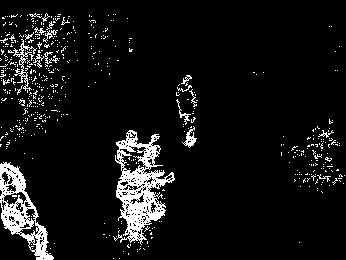person: (2, 161, 54, 260), (173, 72, 202, 148)
